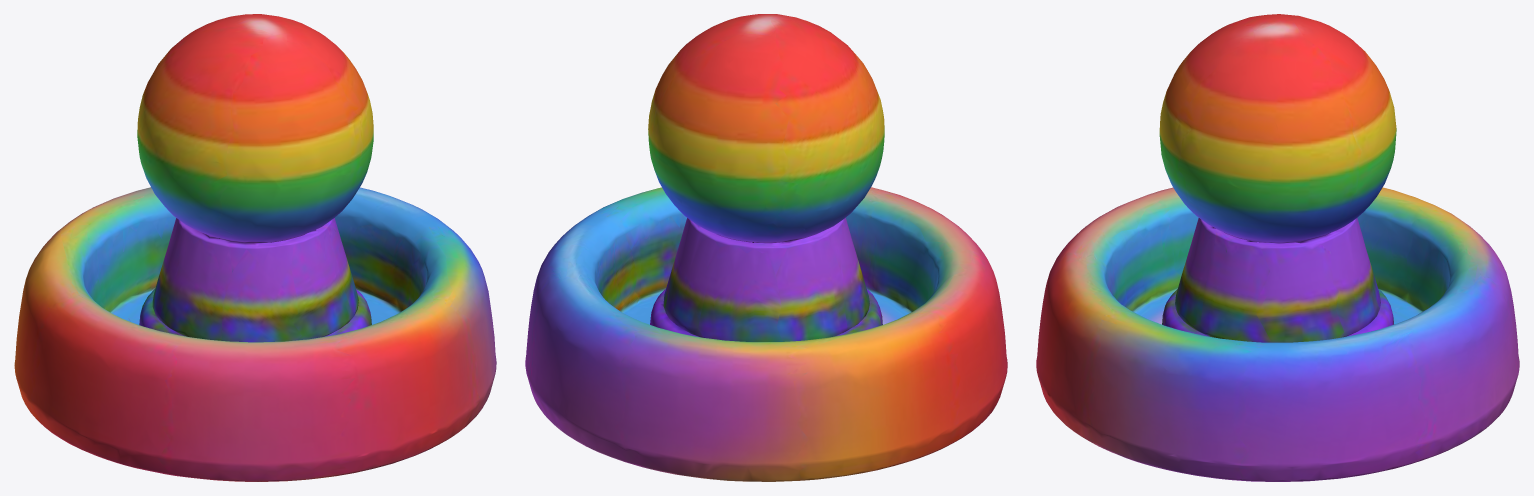
File: mallet-rainbow.glb
3 renders of one model, left to right at view 1: azimuth 30°, elevation 25°; view 2: azimuth 150°, elevation 25°; view 3: azimuth 270°, elevation 25°, orthographic.
Visible parts, largest first — view 1: tripo_node_81311c35-8f1f-4f57-a9b3-5c5332e56d49; view 2: tripo_node_81311c35-8f1f-4f57-a9b3-5c5332e56d49; view 3: tripo_node_81311c35-8f1f-4f57-a9b3-5c5332e56d49.
Boxes of the visible parts, x1=… form: tripo_node_81311c35-8f1f-4f57-a9b3-5c5332e56d49: x1=14, y1=14, x2=496, y2=481; tripo_node_81311c35-8f1f-4f57-a9b3-5c5332e56d49: x1=525, y1=14, x2=1007, y2=481; tripo_node_81311c35-8f1f-4f57-a9b3-5c5332e56d49: x1=1036, y1=14, x2=1519, y2=481.
Bounding box in the file's own units: 0.9999 × 0.8235 × 1.
Materials: 1 (1 with a texture image).
